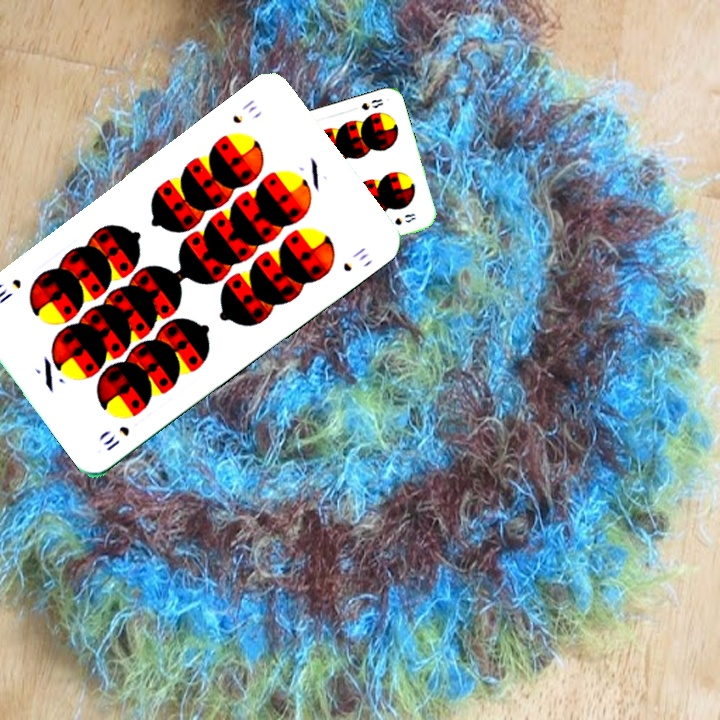S10: (99, 422, 132, 454), (228, 95, 260, 126)
S8: (357, 95, 386, 113)
